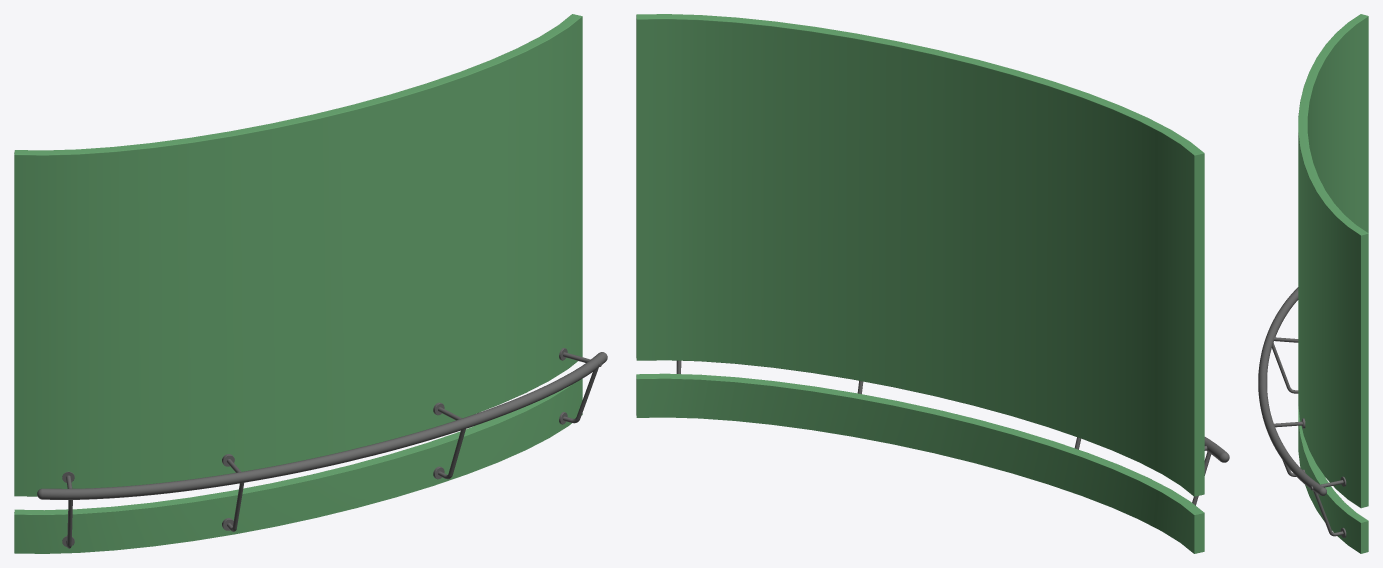
Rendered from glass_curved_display_museum_01a.fbx.
3 renders of one model, left to right at view 1: azimuth 30°, elevation 25°; view 2: azimuth 150°, elevation 25°; view 3: azimuth 270°, elevation 25°, orthographic. The views are drawn at different scales.
Visible parts, largest first — view 1: glass_curved_display_museum_01a; view 2: glass_curved_display_museum_01a; view 3: glass_curved_display_museum_01a.
Boxes of the visible parts, bbox=[...] form: glass_curved_display_museum_01a: bbox=[14, 14, 607, 553]; glass_curved_display_museum_01a: bbox=[636, 14, 1229, 553]; glass_curved_display_museum_01a: bbox=[1258, 14, 1368, 553].
Bounding box in the file's own units: 472 × 316 × 99.17.
